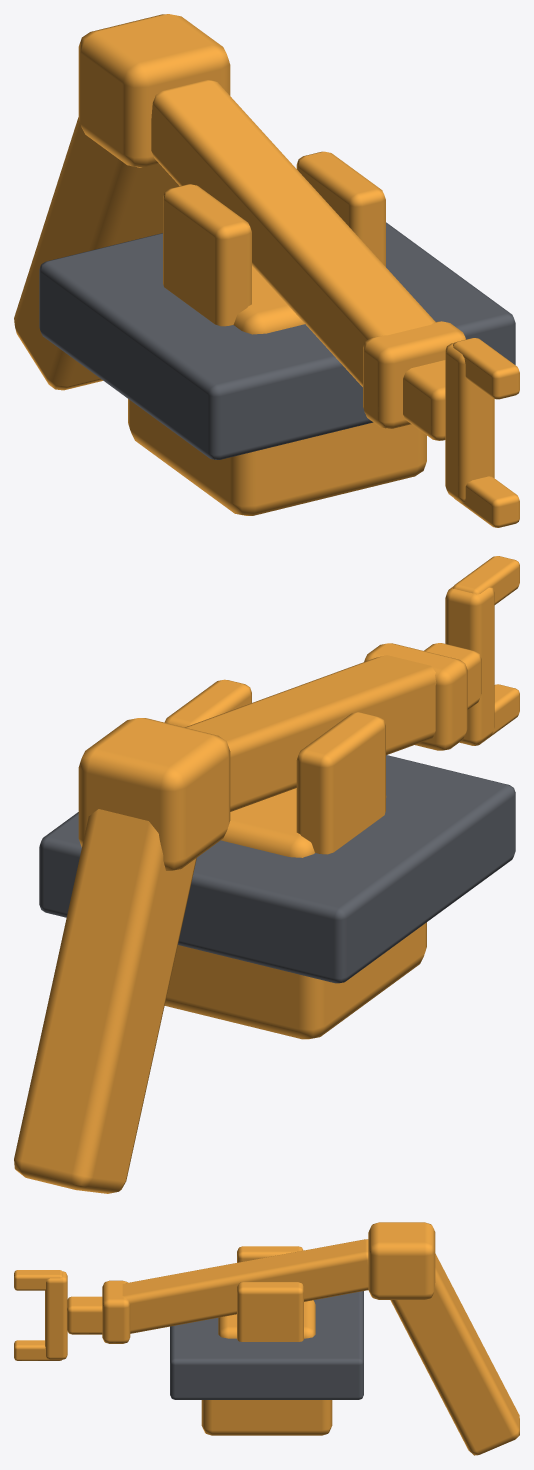
The picture shows the model from 3 angles, top to bottom: view 1: azimuth 30°, elevation 25°; view 2: azimuth 150°, elevation 25°; view 3: azimuth 270°, elevation 25°; orthographic projection. The views are drawn at different scales.
Visible parts, largest first — view 1: arm-swing, six-axis-welding-robot, base-spin; view 2: arm-swing, six-axis-welding-robot, base-spin; view 3: arm-swing, six-axis-welding-robot, base-spin.
Boxes of the visible parts, left/top/right/bottom form: arm-swing: left=14, top=14, right=519, bottom=527; six-axis-welding-robot: left=39, top=222, right=515, bottom=459; base-spin: left=128, top=151, right=426, bottom=515; arm-swing: left=14, top=556, right=519, bottom=1193; six-axis-welding-robot: left=39, top=755, right=515, bottom=983; base-spin: left=164, top=679, right=426, bottom=1039; arm-swing: left=14, top=1222, right=519, bottom=1455; six-axis-welding-robot: left=170, top=1291, right=363, bottom=1399; base-spin: left=201, top=1246, right=332, bottom=1435.
Size of the model in its own units: 36044 by 44225 by 94020.
